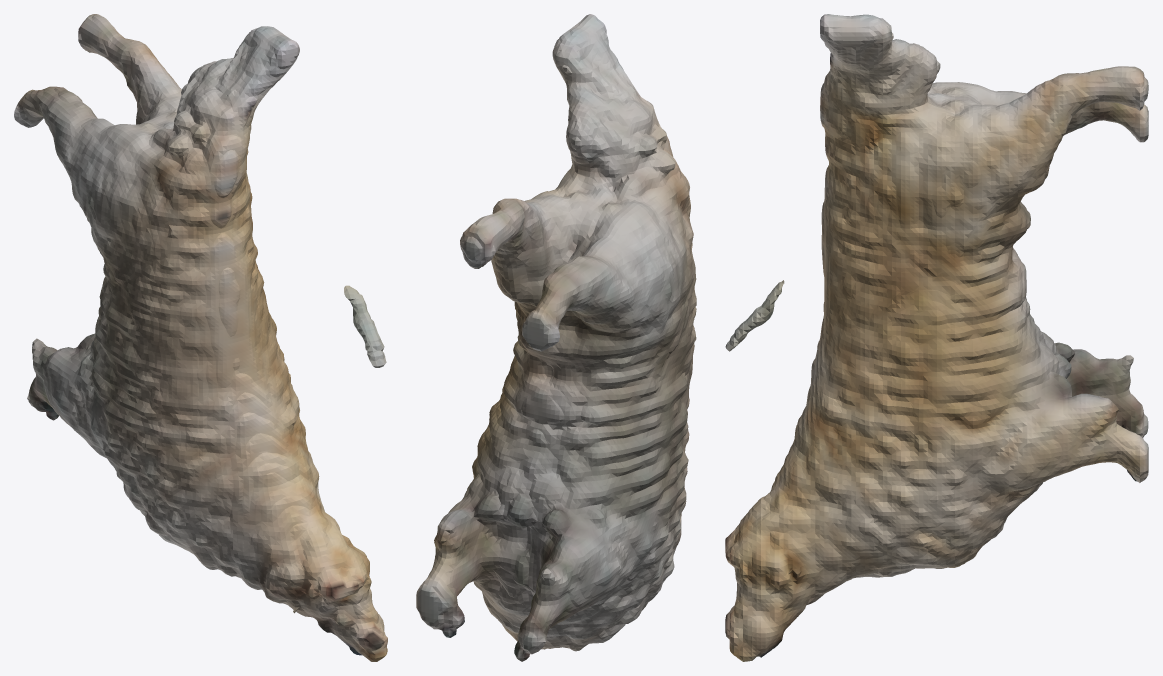
The picture shows the model from 3 angles, left to right: view 1: azimuth 30°, elevation 25°; view 2: azimuth 150°, elevation 25°; view 3: azimuth 270°, elevation 25°; orthographic projection. The views are drawn at different scales.
Parts seen in each view (by area): view 1: world; view 2: world; view 3: world.
Boxes of the visible parts, box(x1,y1,x2,y2) form: world: box(14, 14, 387, 661); world: box(416, 14, 696, 661); world: box(725, 14, 1148, 661).
Size of the model in its own units: 0.356 by 1.04 by 0.641.
